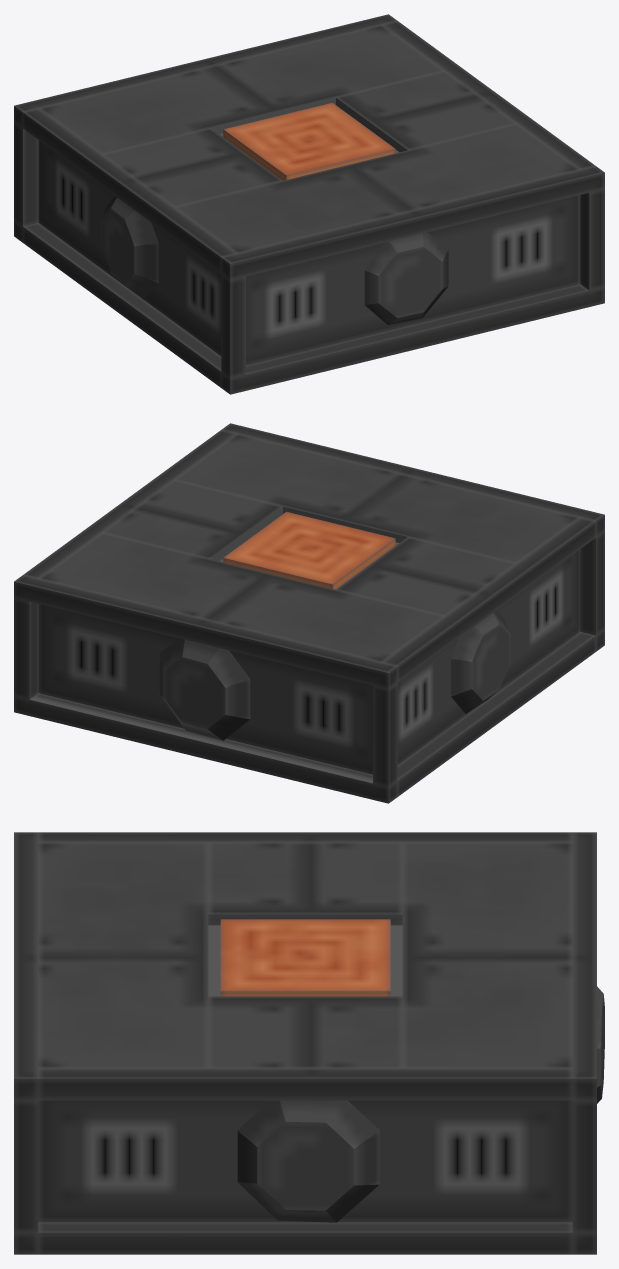
The model's file is firebox.obj.
3 views of the same model, one above another, from view 1: azimuth 30°, elevation 25°; view 2: azimuth 150°, elevation 25°; view 3: azimuth 270°, elevation 25° (orthographic). The views are drawn at different scales.
Parts seen in each view (by area): view 1: circle; view 2: circle; view 3: circle.
Boxes of the visible parts, x1,y1,x2,y2 form: circle: (14, 14, 604, 394); circle: (14, 423, 604, 803); circle: (14, 832, 604, 1254).
Size of the model in its own units: 3.01 by 1 by 3.04.
